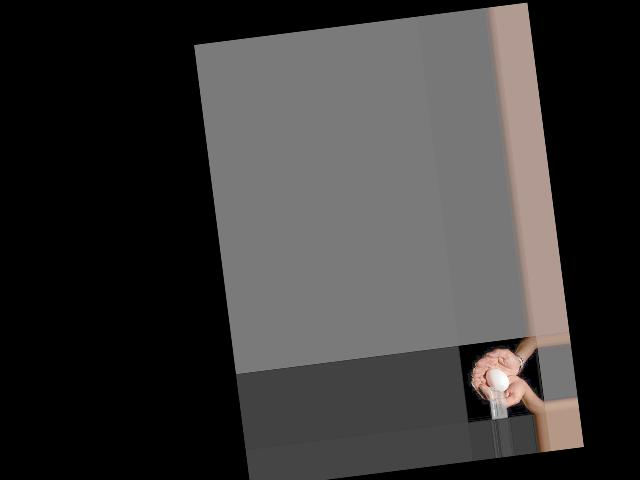egg: (484, 366, 510, 392)
